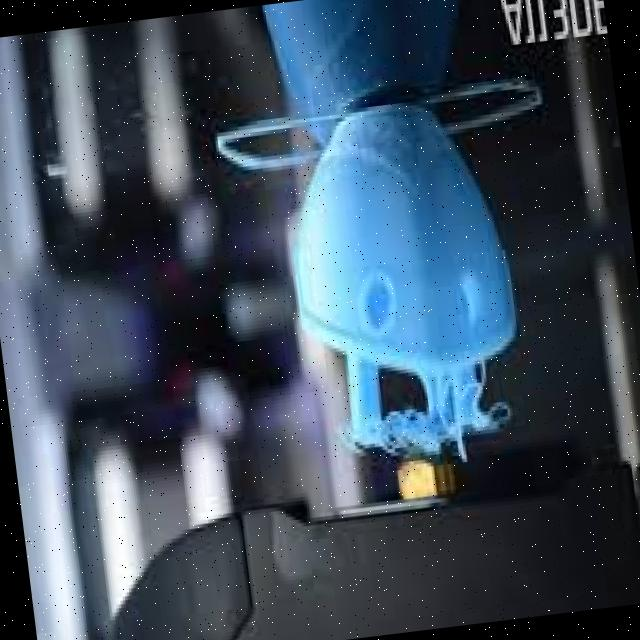spaghetti: (348, 375, 501, 488)
